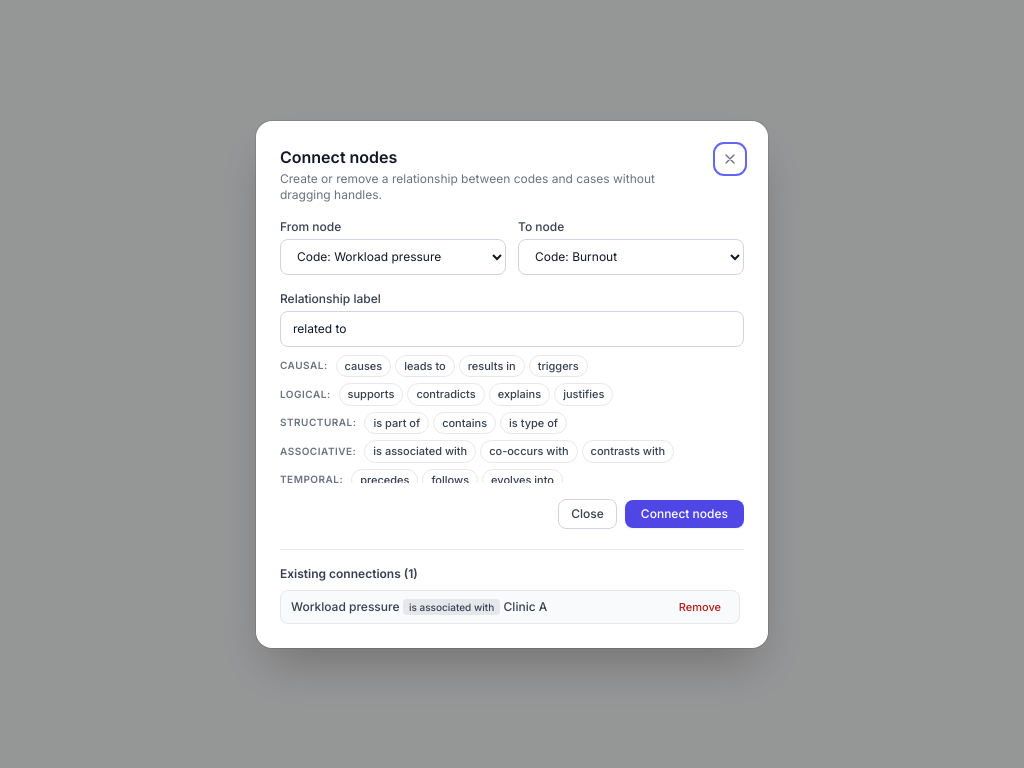
Test: ConnectNodesModal (qualcanvas-15) › prevents connecting a node to itself
The width and height of the screenshot is (1024, 768).
Select "Code: Workload pressure" in the dropdown labelled "From node" at [393, 256], box [280,238,506,274]
Select "Code: Workload pressure" in the dropdown labelled "To node" at [631, 256], box [518,238,744,274]
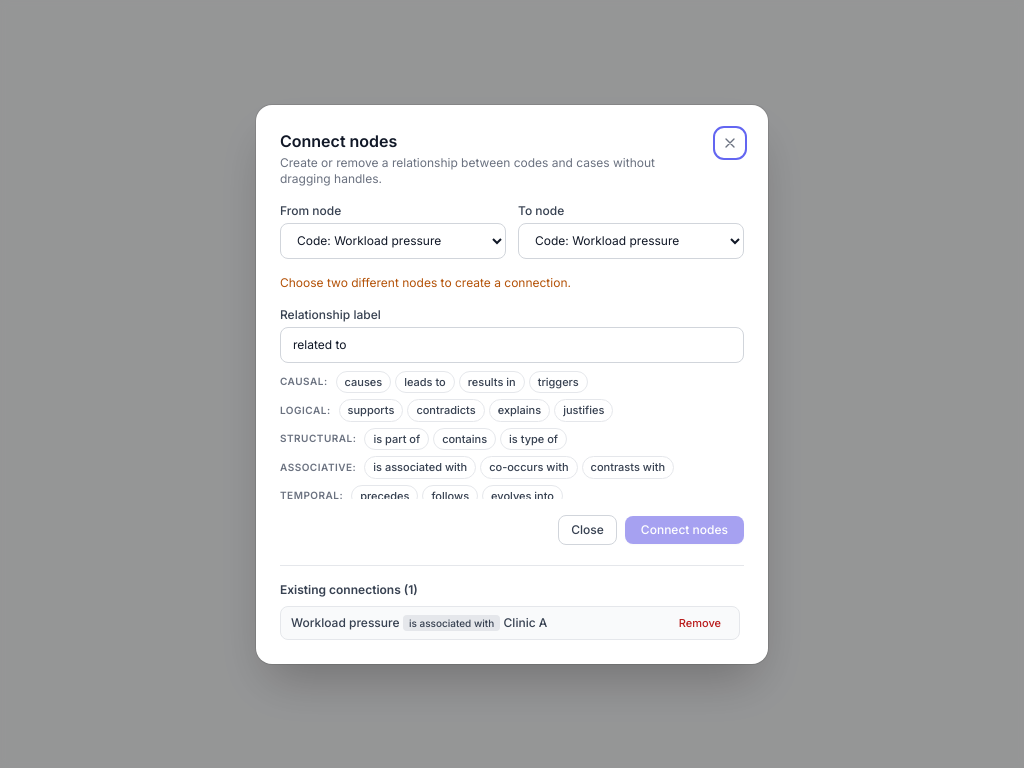
expect the button "Connect nodes" is disabled: met, box [625,516,744,544]
